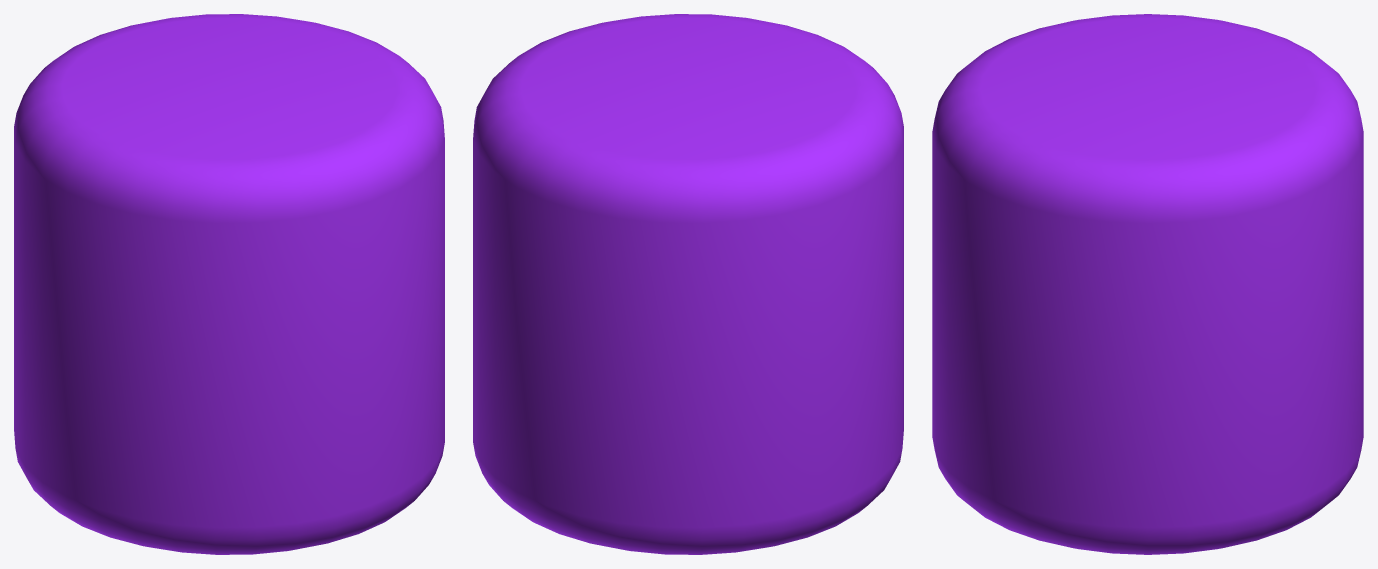
The model's file is rounded_cylinder.gltf.
The picture shows the model from 3 angles, left to right: view 1: azimuth 30°, elevation 25°; view 2: azimuth 150°, elevation 25°; view 3: azimuth 270°, elevation 25°; orthographic projection.
Visible parts, largest first — view 1: Cylinder; view 2: Cylinder; view 3: Cylinder.
Boxes of the visible parts, bbox=[...] form: Cylinder: bbox=[14, 14, 444, 554]; Cylinder: bbox=[473, 14, 903, 554]; Cylinder: bbox=[932, 14, 1363, 554].
Bounding box in the file's own units: 2 × 2 × 2.
